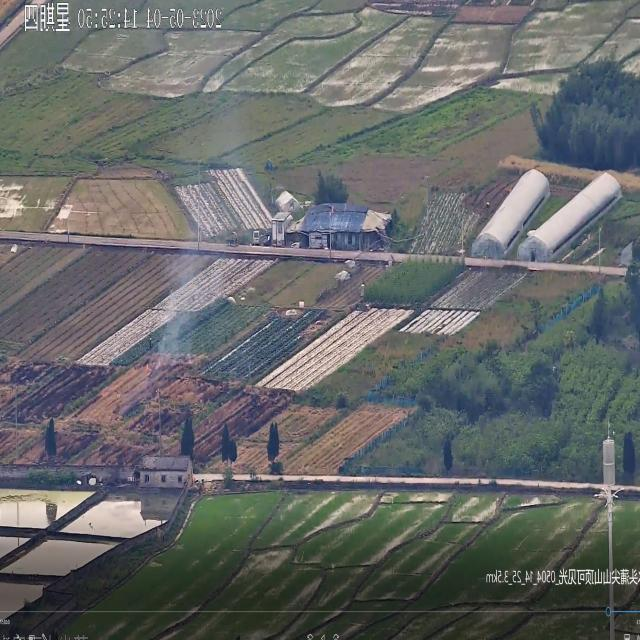Fire: (146, 362, 150, 371)
Smoke: (154, 306, 197, 369)
